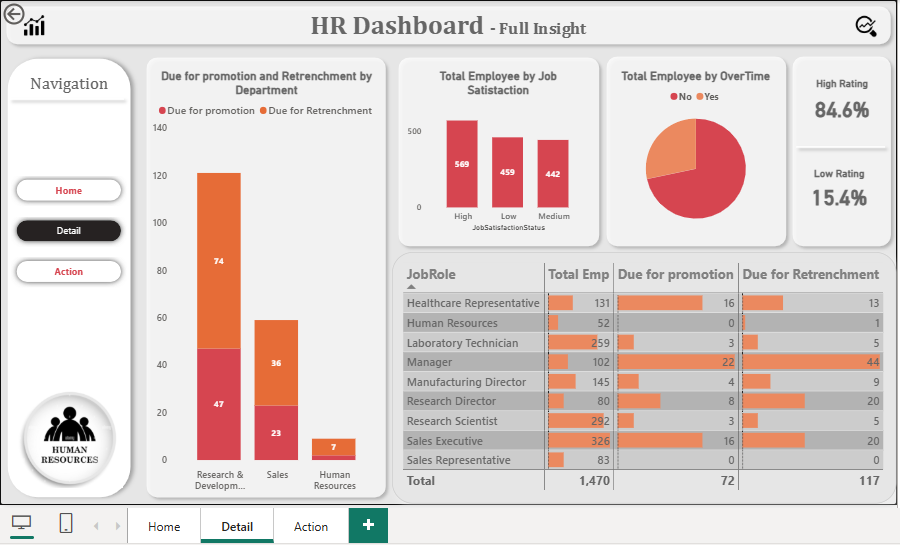

Layout of this report page (visuals, bound fields, positions):
{"tool":"powerbi","page":{"name":"Detail","canvas":[1280,720],"ordinal":1},"visuals":[{"type":"shape","box":[0,0,1279.8,72.3],"z":1000},{"type":"textbox","box":[0.2,8.5,1279.8,62.4],"z":3000},{"type":"image","box":[24.1,15.6,48.2,41.1],"z":5000},{"type":"image","box":[1211.8,17,48.2,41.1],"z":7000},{"type":"shape","box":[199.8,72.3,360,646.3],"z":15000},{"type":"columnChart","title":"Due for promotion and Retrenchment by Department","fields":{"Category":["Hr Data.Department"],"Y":["All Measures.Due for promotion","All Measures.Retrenchment"]},"box":[212.6,97.8,335.9,610.9],"z":16000},{"type":"shape","box":[559.8,72.3,304.7,287.7],"z":17000},{"type":"columnChart","title":"Total Employee by Job Satistaction ","fields":{"Category":["Hr Data.JobSatisfactionStatus"],"Y":["All Measures.Total Emp"]},"box":[576.9,97.8,269.3,236.7],"z":18000},{"type":"shape","box":[856.1,70.9,275,289.1],"z":19000},{"type":"shape","box":[1121.1,70.9,158.7,289.1],"z":20000},{"type":"pieChart","title":"Total Employee by OverTime","fields":{"Category":["Hr Data.OverTime"],"Y":["All Measures.Total Emp"]},"box":[864.6,97.8,256.5,236.7],"z":21000},{"type":"tableEx","fields":{"Values":["Hr Data.JobRole","All Measures.Total Emp","All Measures.Due for promotion","All Measures.Due for Retrenchment"]},"box":[559.8,360,720,358.6],"z":22000},{"type":"actionButton","box":[0,0,100,40],"z":23000},{"type":"card","title":"High Rating","fields":{"Values":["All Measures.% High rating"]},"box":[1126.8,112,148.8,73.7],"z":24000},{"type":"card","title":"Low Rating","fields":{"Values":["All Measures.% Low Rated"]},"box":[1122.5,239.5,148.8,68],"z":25000},{"type":"shape","box":[1126.8,180,144.6,59.5],"z":26000},{"type":"shape","box":[0,72.3,197,647.7],"z":27000},{"type":"pageNavigator","box":[15.6,248,165.8,163],"z":28000},{"type":"textbox","box":[15.6,97.8,165.8,42.5],"z":29000},{"type":"shape","box":[4.3,112,181.4,59.5],"z":30000},{"type":"image","box":[18.4,542.8,161.6,161.6],"z":31000}]}

Visuals, with their boxes on the page's 1280x720 design canvas (x1, y1, x2, y2). These are canvas units, not pixel positions in the 900x545 screenshot, which may show the page scaled, cropped or inside an application window:
shape: Rect(0, 0, 1280, 72)
textbox: Rect(0, 8, 1280, 71)
image: Rect(24, 16, 72, 57)
image: Rect(1212, 17, 1260, 58)
shape: Rect(200, 72, 560, 719)
"Due for promotion and Retrenchment by Department" columnChart: Rect(213, 98, 548, 709)
shape: Rect(560, 72, 864, 360)
"Total Employee by Job Satistaction " columnChart: Rect(577, 98, 846, 334)
shape: Rect(856, 71, 1131, 360)
shape: Rect(1121, 71, 1280, 360)
"Total Employee by OverTime" pieChart: Rect(865, 98, 1121, 334)
tableEx - Hr Data.JobRole x All Measures.Total Emp: Rect(560, 360, 1280, 719)
actionButton: Rect(0, 0, 100, 40)
"High Rating" card: Rect(1127, 112, 1276, 186)
"Low Rating" card: Rect(1122, 240, 1271, 308)
shape: Rect(1127, 180, 1271, 240)
shape: Rect(0, 72, 197, 720)
pageNavigator: Rect(16, 248, 181, 411)
textbox: Rect(16, 98, 181, 140)
shape: Rect(4, 112, 186, 172)
image: Rect(18, 543, 180, 704)
